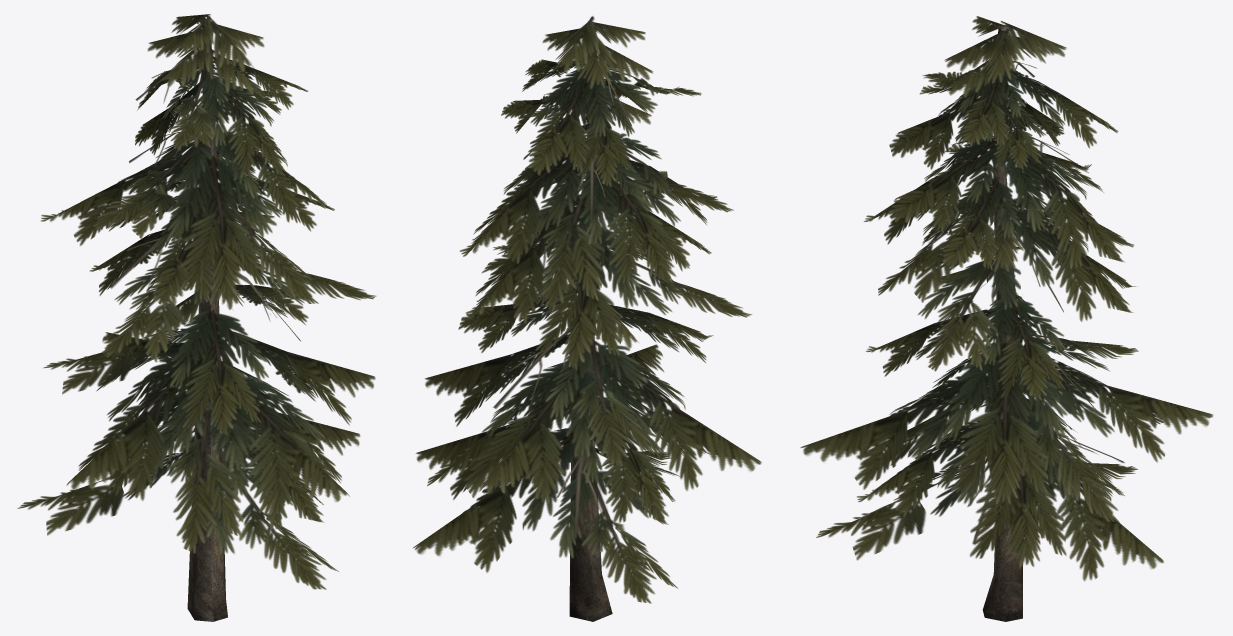
The model's file is fire-large-2-dark-light.glb.
The picture shows the model from 3 angles, left to right: view 1: azimuth 30°, elevation 25°; view 2: azimuth 150°, elevation 25°; view 3: azimuth 270°, elevation 25°; orthographic projection.
Visible parts, largest first — view 1: Branches, Tree_bark; view 2: Branches, Tree_bark; view 3: Branches, Tree_bark.
Boxes of the visible parts, x1,y1,x2,y2 form: Branches: [17, 14, 376, 589]; Tree_bark: [187, 19, 227, 621]; Branches: [413, 16, 761, 603]; Tree_bark: [569, 24, 612, 621]; Branches: [800, 16, 1213, 581]; Tree_bark: [982, 26, 1022, 621].
Bounding box in the file's own units: 357 × 616 × 399.
2 materials, 2 textured.
